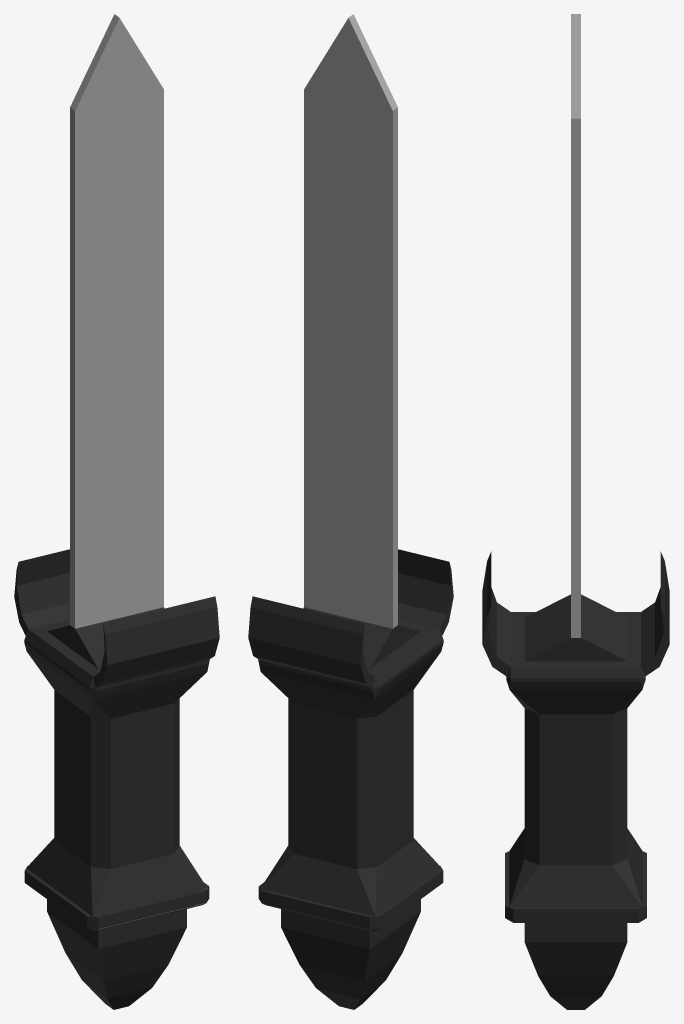
The model's file is knife.gltf.
3 views of the same model, side by side, from view 1: azimuth 30°, elevation 25°; view 2: azimuth 150°, elevation 25°; view 3: azimuth 270°, elevation 25° (orthographic).
Visible parts, largest first — view 1: Cube; view 2: Cube; view 3: Cube.
Boxes of the visible parts, x1,y1,x2,y2 form: Cube: [14, 14, 219, 1009]; Cube: [248, 14, 453, 1009]; Cube: [482, 14, 669, 1009].
Bounding box in the file's own units: 0.555 × 4.29 × 0.7322.
1 material, 1 textured.
